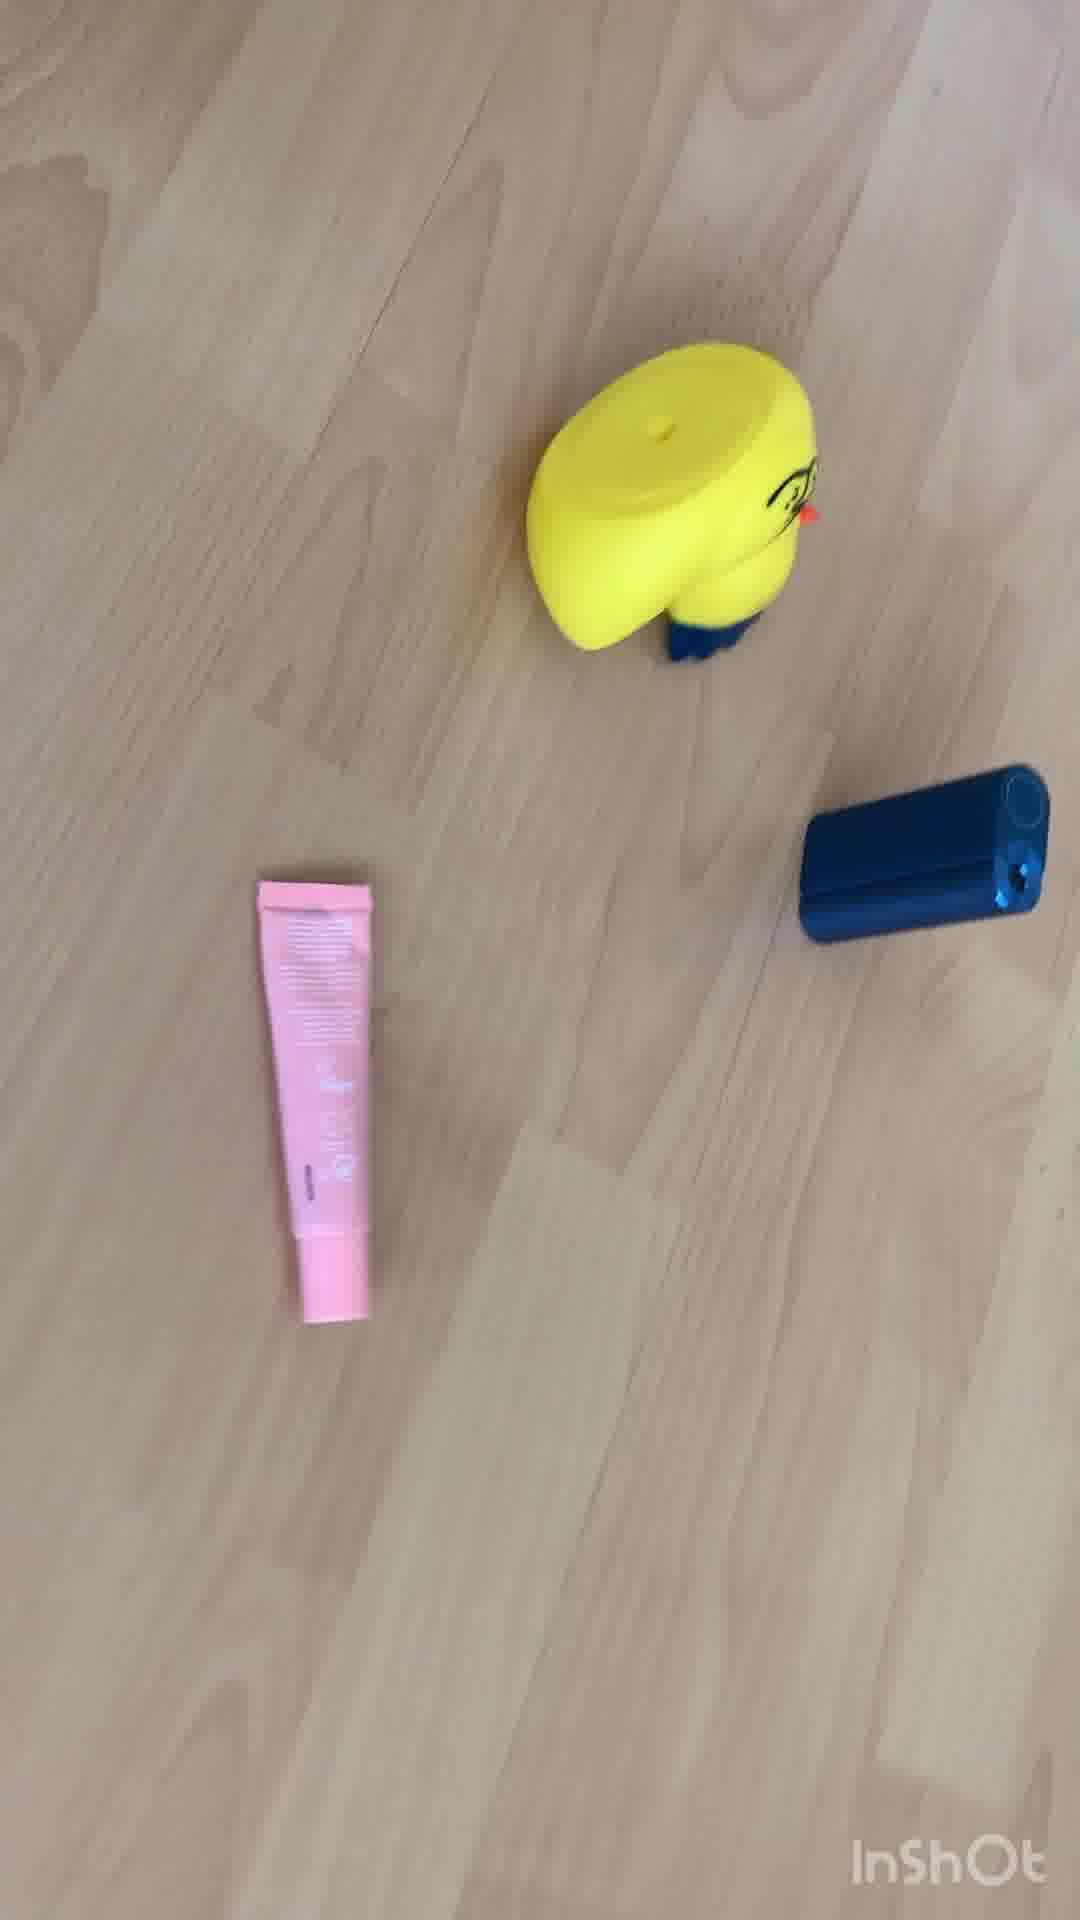duck: (526, 328, 833, 673)
glo: (787, 762, 1054, 949)
lip balm: (262, 869, 392, 1341)
